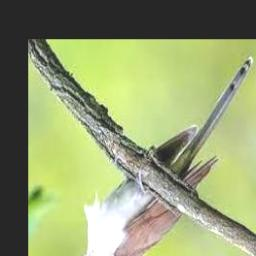Cuckoo: (70, 58, 253, 256)
